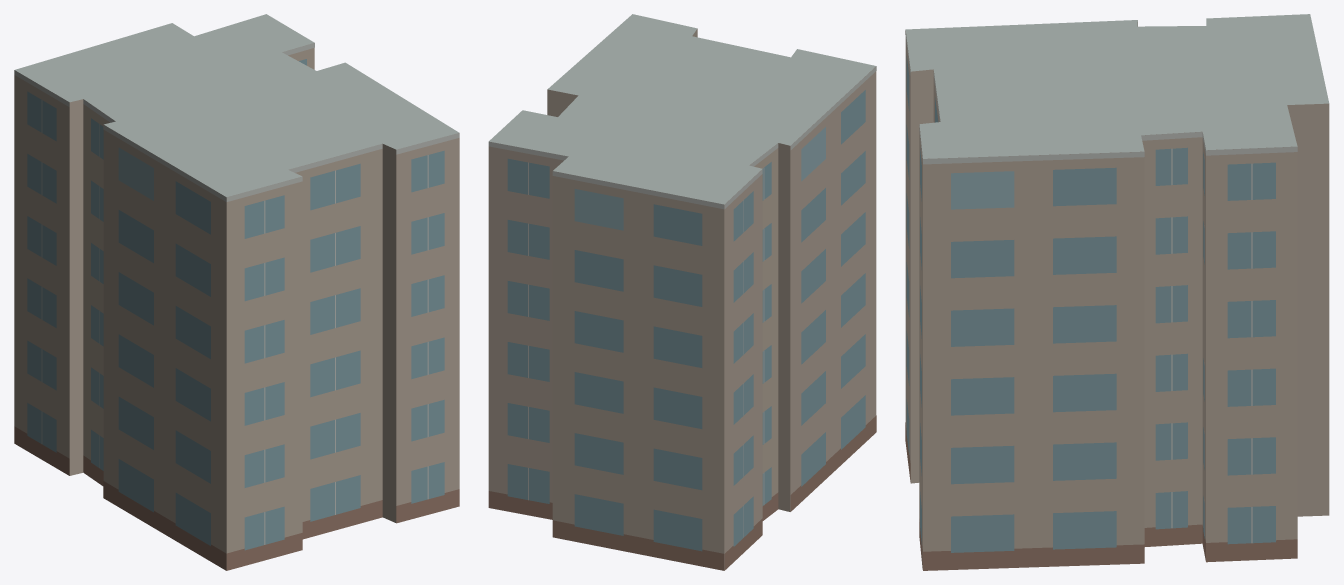
The model's file is survey-upis-32561918.glb.
3 views of the same model, side by side, from view 1: azimuth 30°, elevation 25°; view 2: azimuth 150°, elevation 25°; view 3: azimuth 270°, elevation 25° (orthographic). The views are drawn at different scales.
Parts seen in each view (by area): view 1: survey-upis-32561918.tmp; view 2: survey-upis-32561918.tmp; view 3: survey-upis-32561918.tmp.
Boxes of the visible parts, x1,y1,x2,y2 form: survey-upis-32561918.tmp: [14, 14, 459, 570]; survey-upis-32561918.tmp: [488, 14, 876, 570]; survey-upis-32561918.tmp: [905, 14, 1329, 570].
Bounding box in the file's own units: 13.82 × 18.3 × 17.07.
